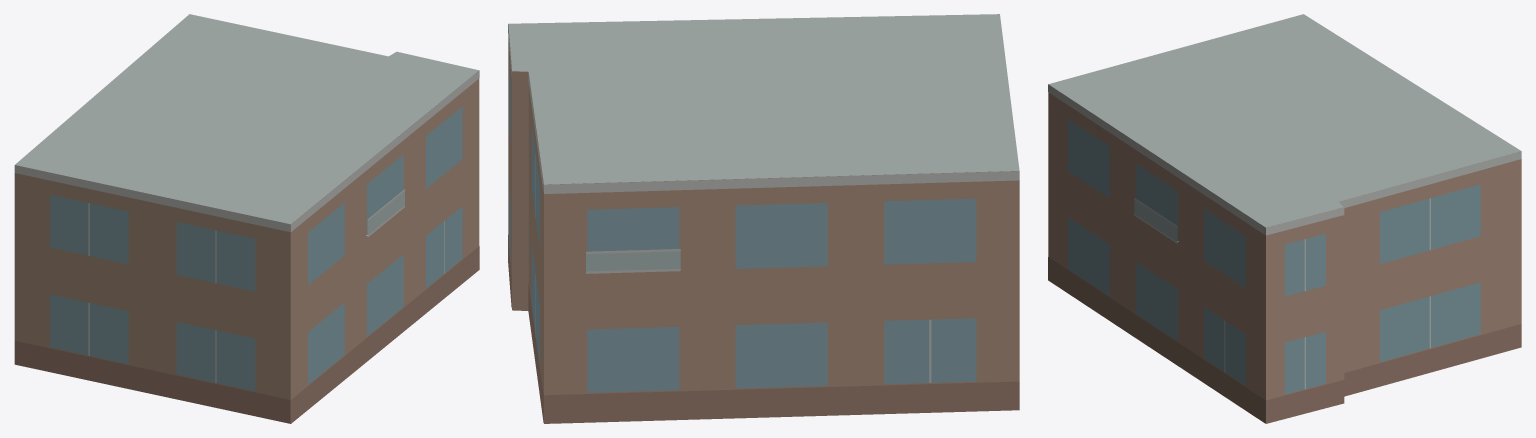
The model's file is survey-upis-32692294.glb.
The picture shows the model from 3 angles, left to right: view 1: azimuth 30°, elevation 25°; view 2: azimuth 150°, elevation 25°; view 3: azimuth 270°, elevation 25°; orthographic projection. The views are drawn at different scales.
Parts seen in each view (by area): view 1: survey-upis-32692294.tmp; view 2: survey-upis-32692294.tmp; view 3: survey-upis-32692294.tmp.
Part boxes in pixels (x1,y1,x2,y2): survey-upis-32692294.tmp: (14,14,479,423); survey-upis-32692294.tmp: (508,14,1019,423); survey-upis-32692294.tmp: (1048,14,1521,423).
Bounding box in the file's own units: 14.26 × 6.1 × 13.35.
